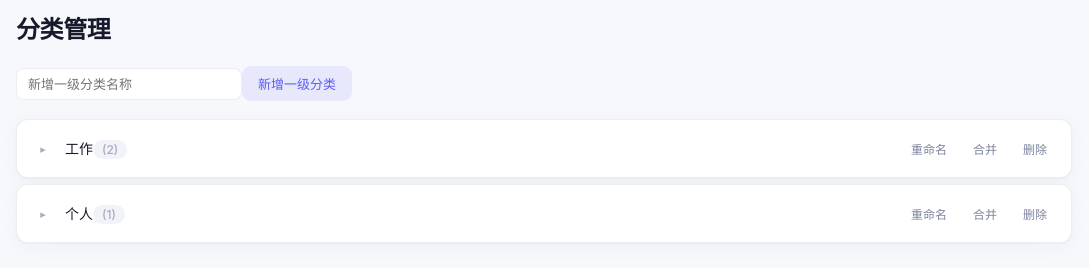
it: CategoryManager › cancels rename on Escape
The width and height of the screenshot is (1089, 268).
Expected: the text "工作" is shown, [65,140,93,157]
Click the button "重命名" in the row of "工作" at [929, 149], box [901,136,957,161]
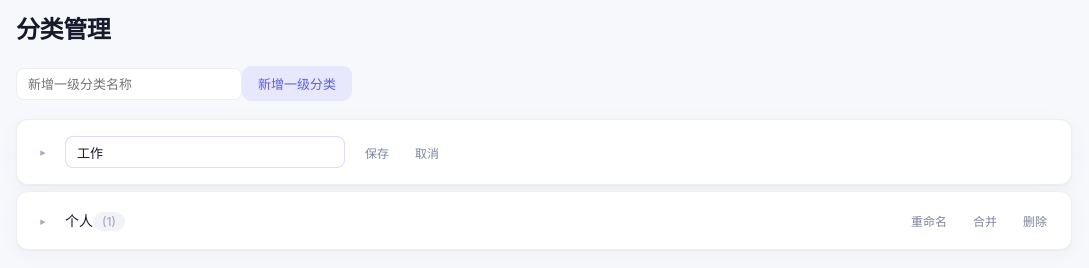
Press Escape
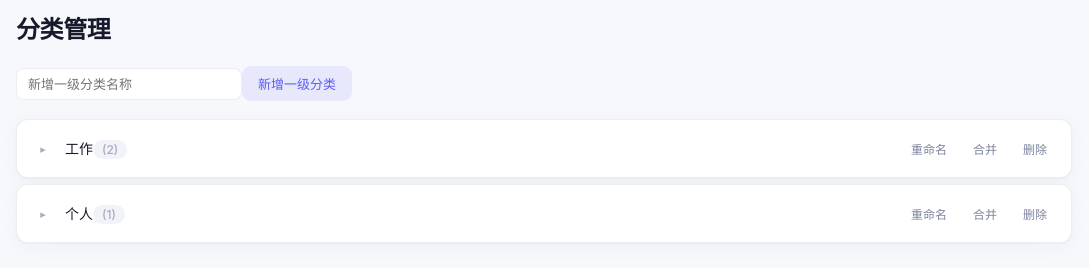
Result: the button "保存" is gone
